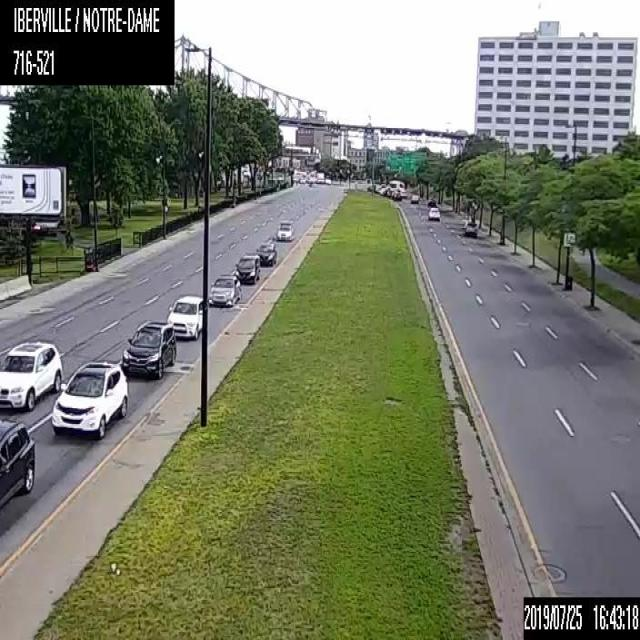vehicle: (50, 360, 128, 438), (0, 341, 63, 410), (0, 414, 35, 510), (122, 318, 175, 378), (166, 294, 201, 338), (208, 274, 240, 307), (234, 254, 260, 284), (256, 242, 276, 265), (276, 218, 294, 240), (426, 206, 440, 220), (464, 220, 477, 235), (426, 197, 436, 206), (411, 192, 419, 203)
